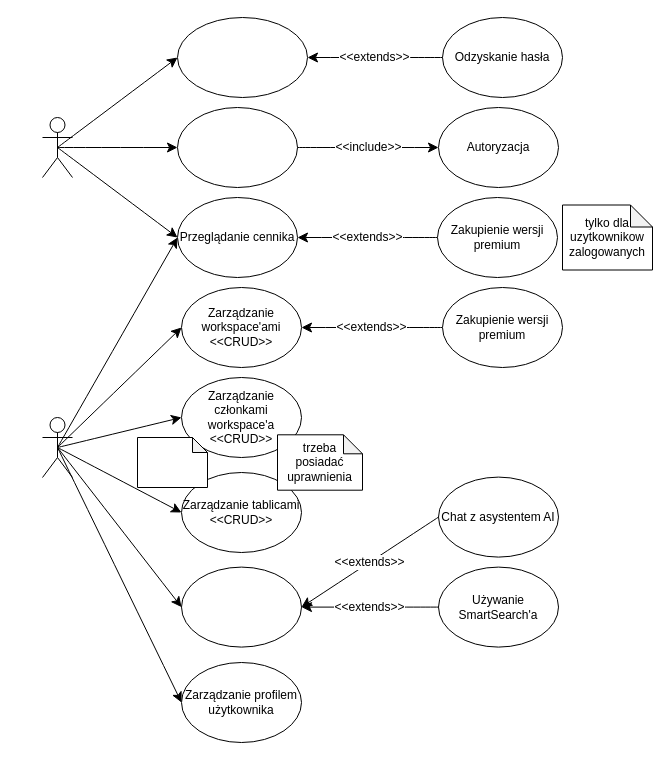
This 670x760 diagram has some shape labels left out. Each missing label, with the box of its shape:
Korzystanie z tablicy w czasie rzeczywistym: (180, 566, 302, 647)
Logowanie: (176, 16, 308, 98)
należy wybrać workspace: (136, 436, 208, 488)
Niezalogowany: (42, 116, 72, 178)
Rejestracja: (176, 106, 298, 188)
Zalogowany: (42, 416, 72, 478)
